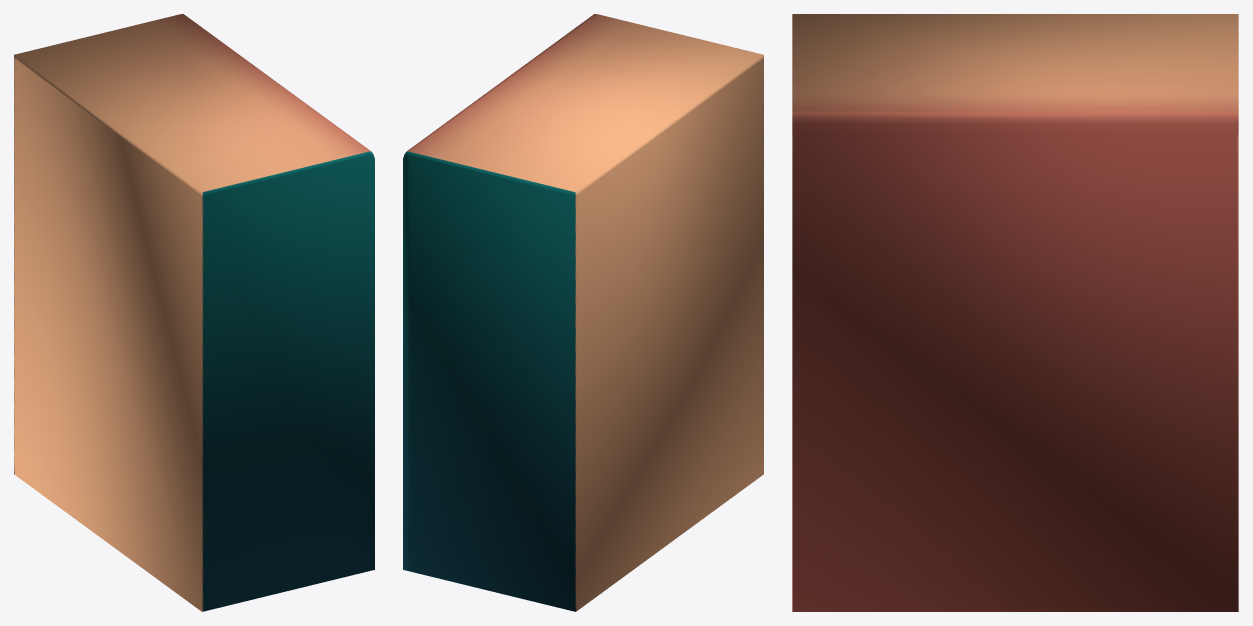
File: ground.fbx
The picture shows the model from 3 angles, left to right: view 1: azimuth 30°, elevation 25°; view 2: azimuth 150°, elevation 25°; view 3: azimuth 270°, elevation 25°; orthographic projection. The views are drawn at different scales.
Visible parts, largest first — view 1: Cube.000; view 2: Cube.000; view 3: Cube.000.
Part boxes in pixels (x1,y1,x2,y2): Cube.000: (14, 14, 374, 611); Cube.000: (403, 14, 763, 611); Cube.000: (792, 14, 1238, 611).
Bounding box in the file's own units: 528 × 1225 × 995.
